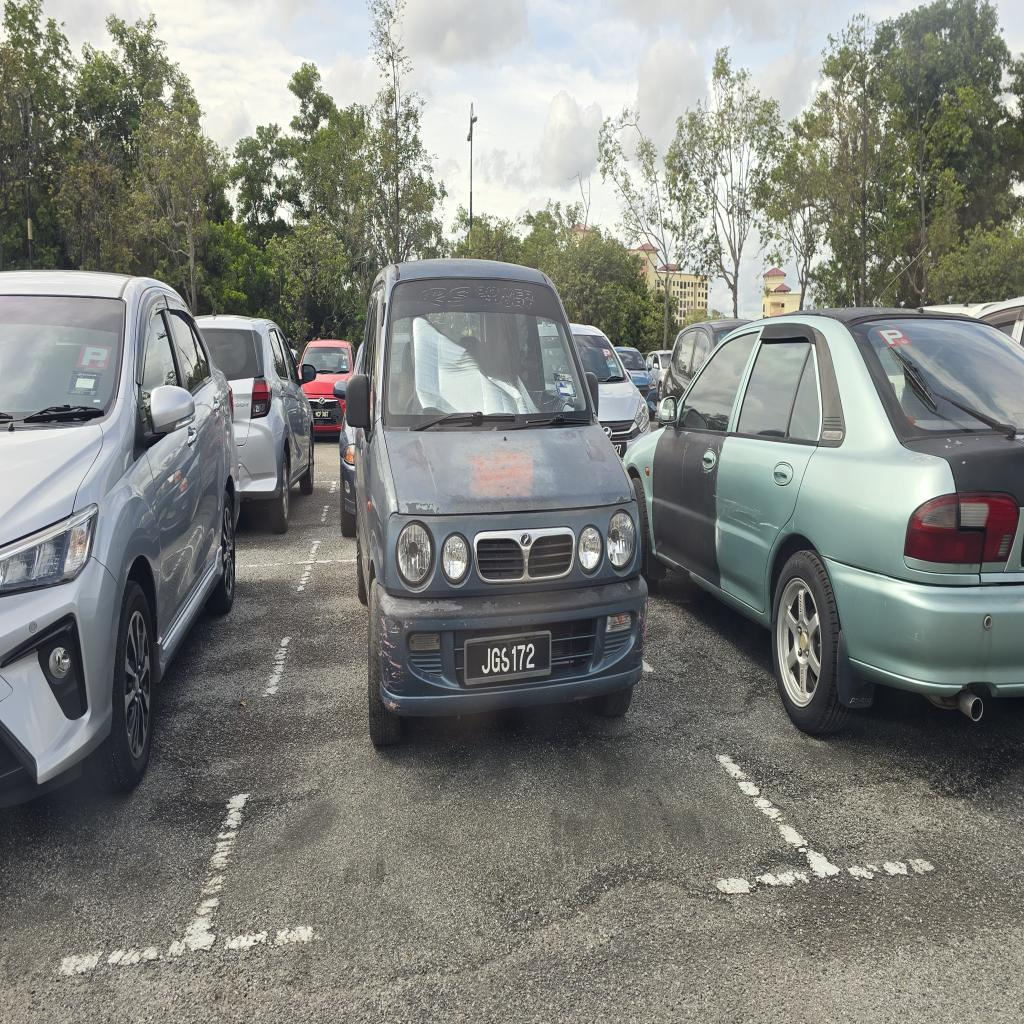car: (347, 260, 647, 745)
car plate: (464, 632, 551, 685)
